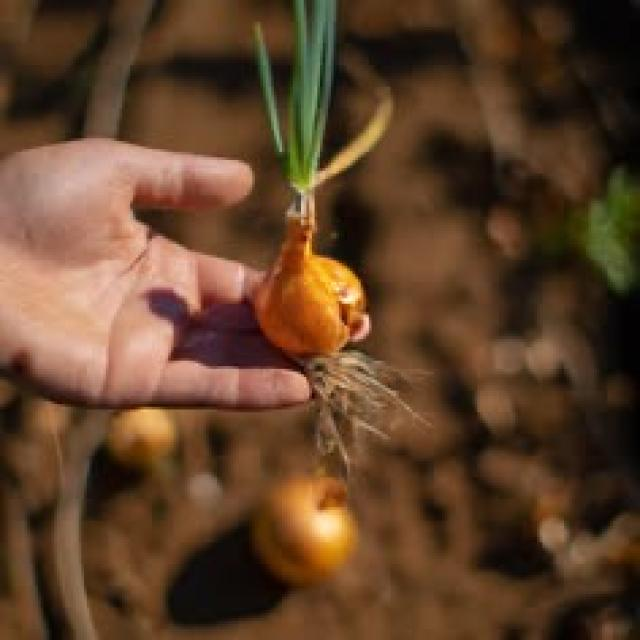sprouting: (212, 19, 476, 446)
